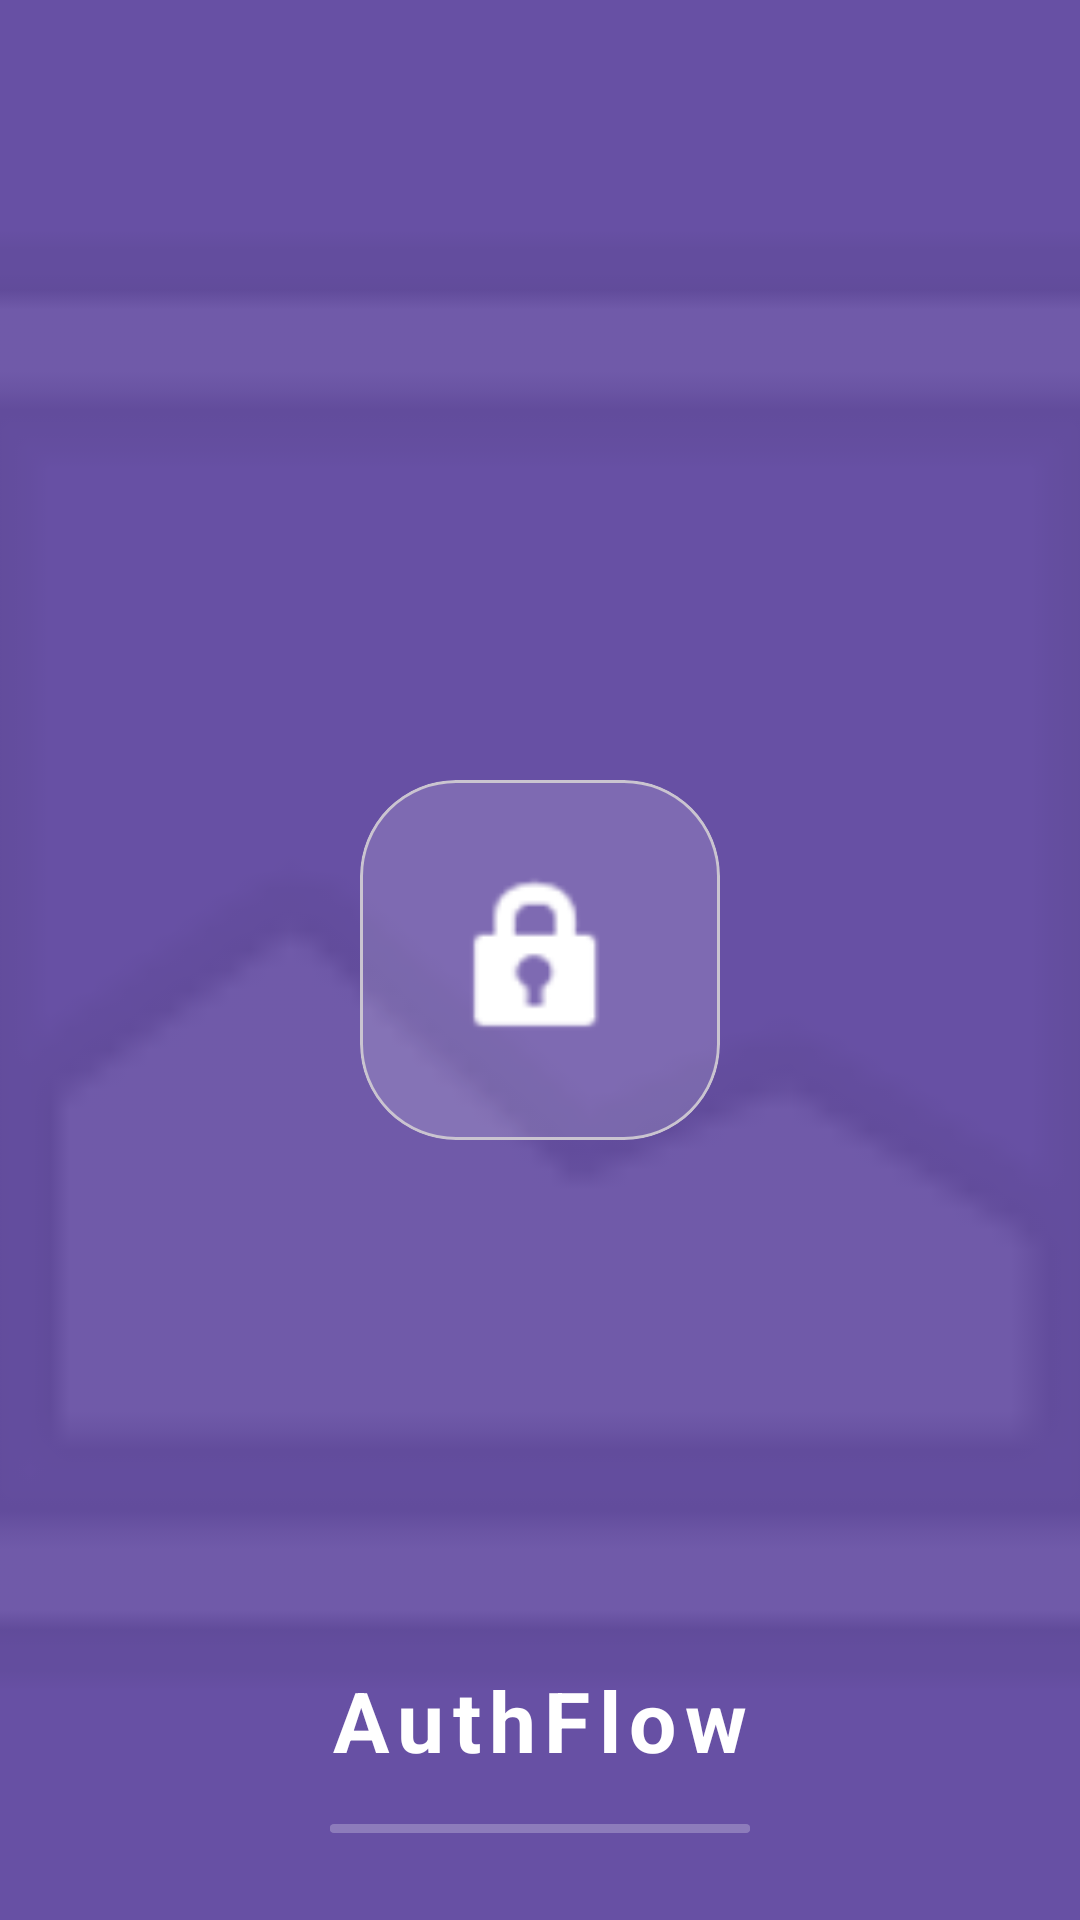

Icons on this 1080 x 1920 Android screen, each with the point to tap as (x,y):
lock idle: (535,954)
